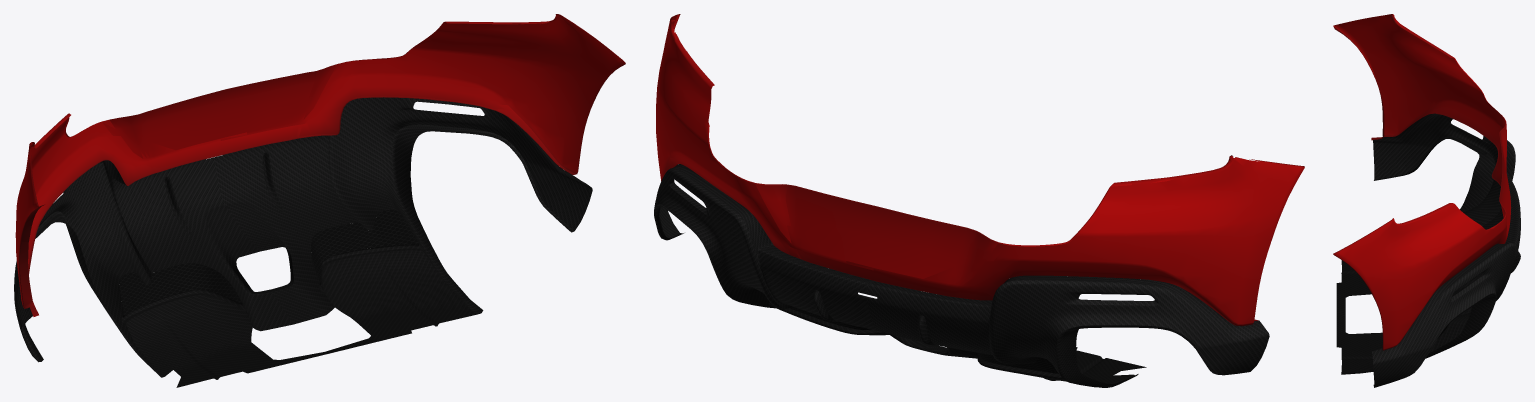
The model's file is bumper_r.glb.
3 views of the same model, side by side, from view 1: azimuth 30°, elevation 25°; view 2: azimuth 150°, elevation 25°; view 3: azimuth 270°, elevation 25° (orthographic). The views are drawn at different scales.
Visible parts, largest first — view 1: Carbon2_Geo_lodA_Ferrari_PurosangueRewardRecycled_2023Carbon; view 2: Carbon2_Geo_lodA_Ferrari_PurosangueRewardRecycled_2023Carbon; view 3: Carbon2_Geo_lodA_Ferrari_PurosangueRewardRecycled_2023Carbon.
Boxes of the visible parts, x1,y1,x2,y2 form: Carbon2_Geo_lodA_Ferrari_PurosangueRewardRecycled_2023Carbon: (14, 14, 625, 387); Carbon2_Geo_lodA_Ferrari_PurosangueRewardRecycled_2023Carbon: (654, 14, 1304, 387); Carbon2_Geo_lodA_Ferrari_PurosangueRewardRecycled_2023Carbon: (1333, 14, 1520, 387).
Bounding box in the file's own units: 0.0197 × 0.00805 × 0.00683.
Materials: 3 (2 with a texture image).
